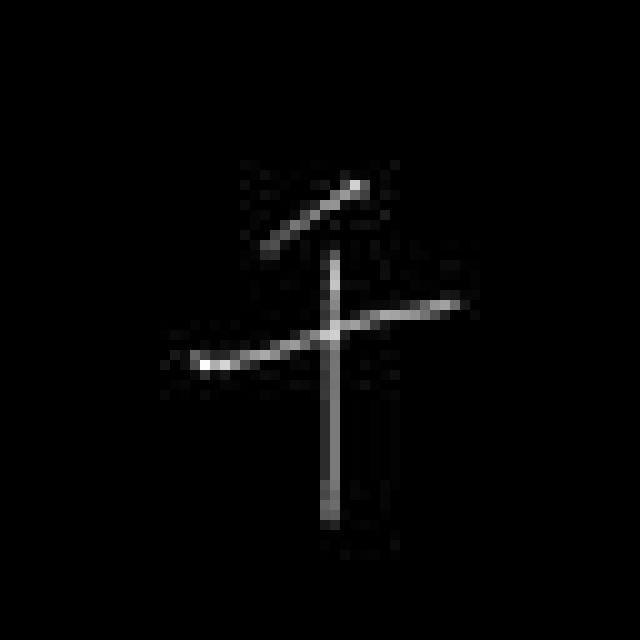1000 -a thousand-: (172, 177, 473, 525)
